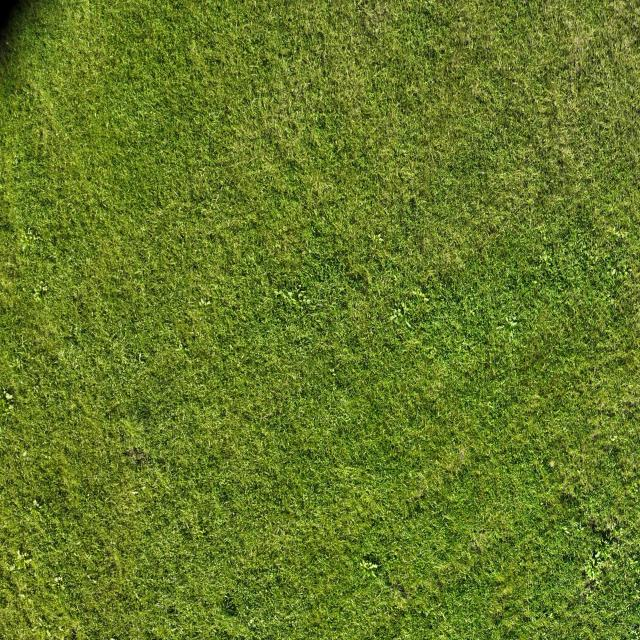rumex: (424, 259, 548, 415), (74, 2, 200, 118), (418, 408, 503, 518), (574, 521, 640, 620), (50, 338, 96, 402), (359, 562, 402, 627), (593, 248, 636, 303), (182, 157, 218, 217), (180, 292, 220, 334), (31, 109, 54, 175), (356, 1, 394, 36), (27, 606, 64, 637), (388, 298, 417, 335), (602, 224, 632, 259), (581, 545, 605, 582), (125, 349, 147, 375), (18, 227, 40, 250), (558, 487, 580, 509), (221, 594, 241, 617), (110, 548, 123, 583), (64, 326, 83, 349), (617, 389, 639, 408), (14, 548, 32, 571), (33, 282, 50, 302), (407, 498, 423, 518), (2, 388, 16, 409), (285, 294, 303, 310), (359, 560, 379, 574), (600, 523, 616, 540), (108, 326, 121, 346), (408, 289, 424, 303), (600, 441, 614, 455), (312, 224, 324, 240), (166, 604, 179, 618), (0, 218, 12, 233), (389, 310, 401, 324), (276, 290, 290, 302), (425, 348, 437, 362), (198, 296, 212, 308), (52, 576, 65, 588), (608, 266, 618, 281), (423, 608, 434, 621), (409, 197, 417, 213), (247, 617, 258, 628), (98, 199, 108, 211), (458, 449, 466, 464), (508, 317, 518, 328), (543, 609, 553, 620), (70, 324, 79, 336), (540, 251, 548, 264), (218, 478, 228, 488), (500, 587, 510, 597), (33, 499, 42, 510), (400, 302, 408, 314), (407, 245, 415, 257), (361, 565, 368, 578), (4, 391, 14, 400), (191, 262, 200, 272), (180, 413, 186, 427), (609, 434, 618, 443), (18, 346, 26, 356), (612, 267, 620, 276), (628, 382, 636, 391), (12, 154, 19, 164), (15, 550, 22, 560), (266, 410, 273, 420), (195, 527, 203, 535), (18, 592, 26, 600), (26, 228, 33, 237), (182, 344, 189, 353), (177, 344, 184, 353), (477, 170, 486, 177), (620, 43, 627, 52), (22, 242, 28, 252), (594, 550, 600, 560), (39, 128, 44, 140), (35, 294, 42, 302), (304, 297, 312, 304), (287, 290, 294, 298), (376, 232, 383, 240), (342, 411, 349, 419), (92, 475, 99, 483), (302, 493, 308, 502), (59, 350, 65, 359), (134, 593, 140, 602), (516, 9, 520, 22), (34, 289, 40, 297), (42, 284, 48, 292), (8, 564, 14, 572), (130, 490, 138, 496), (370, 323, 376, 331), (22, 449, 28, 457), (275, 243, 281, 250), (32, 386, 38, 393), (54, 576, 60, 583), (330, 368, 336, 374), (156, 602, 162, 608), (110, 541, 116, 547), (91, 580, 97, 586), (331, 302, 338, 307), (5, 41, 9, 46)
